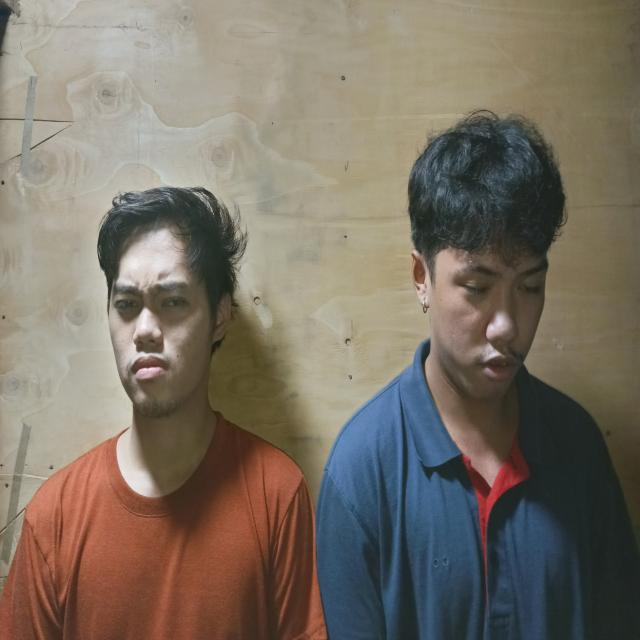Nonhelmet: (405, 108, 568, 415), (93, 182, 247, 418)
